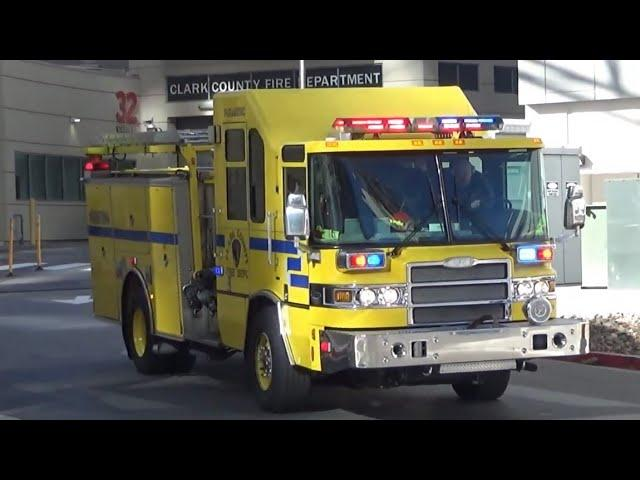firetruck_on: (80, 85, 588, 412)
